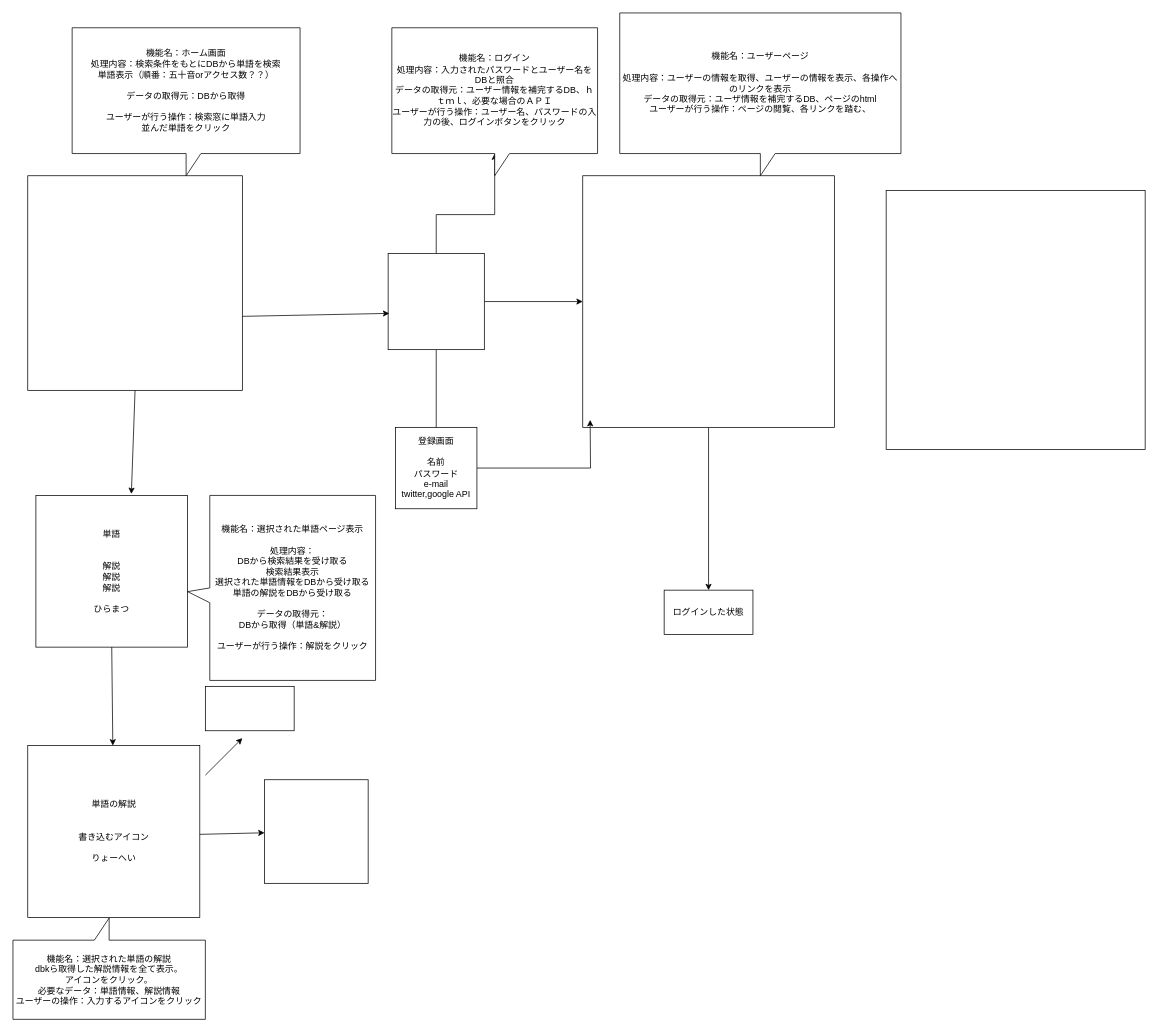
This 1158x1032 diagram has some shape labels left out. The centre of each missing label's shape, as x and y in pixels:
"ホーム画面 検索窓 単語がずらり ひらまつ" goes at [134,282].
"ユーザーページ ユーザー名 過去の投稿一覧 ログアウト s" goes at [708,301].
"ログイン パスワード ユーザー名 ひろみ" goes at [435,301].
"機能名 処理内容 処理に必要なデータ データの取得元 ユーザーが行い操作" goes at [1015,320].
"解説 投稿 りょーへい" goes at [316,831].
